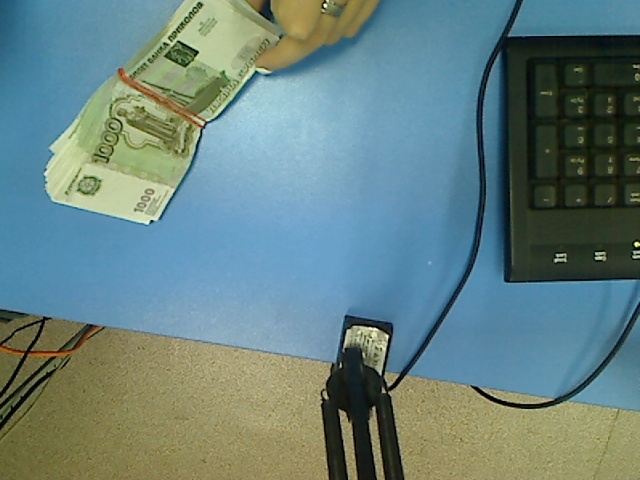banknotes: (41, 1, 285, 228)
